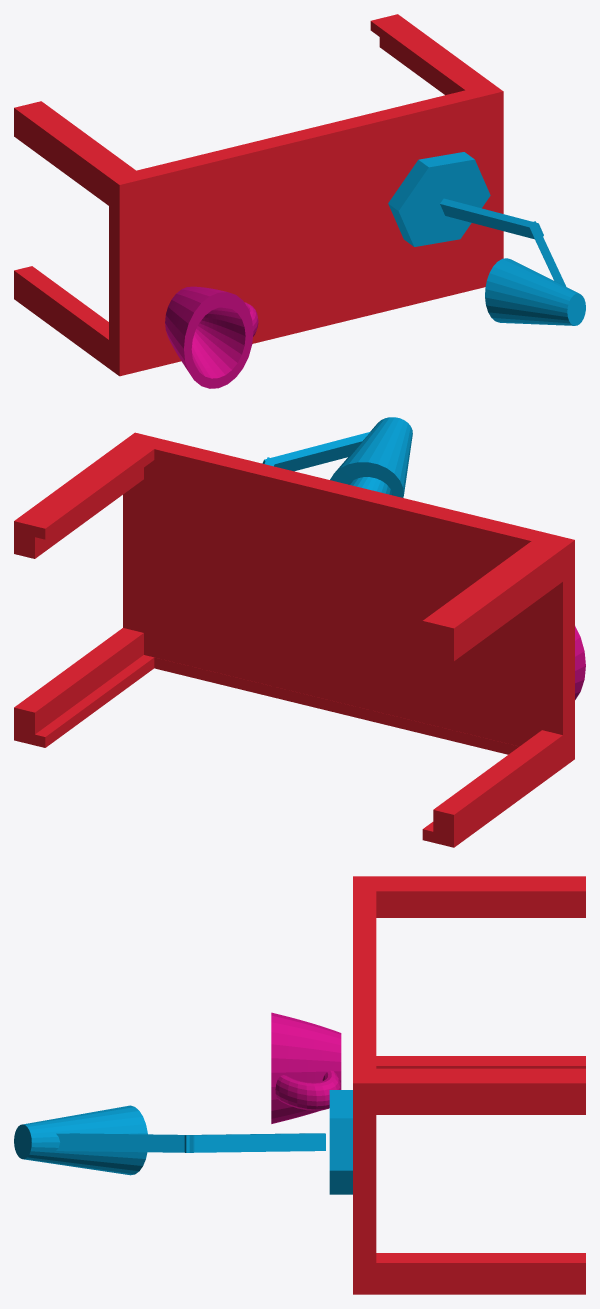
Rendered from tinker.obj.
3 views of the same model, one above another, from view 1: azimuth 30°, elevation 25°; view 2: azimuth 150°, elevation 25°; view 3: azimuth 270°, elevation 25° (orthographic). The views are drawn at different scales.
Visible parts, largest first — view 1: group_0_15277357, group_0_40919, group_0_14093196; view 2: group_0_15277357, group_0_40919, group_0_14093196; view 3: group_0_15277357, group_0_40919, group_0_14093196.
Boxes of the visible parts, <box> form: group_0_15277357: <box>14,14,503,376</box>; group_0_40919: <box>388,152,585,325</box>; group_0_14093196: <box>165,286,258,388</box>; group_0_15277357: <box>14,432,574,847</box>; group_0_40919: <box>262,417,412,497</box>; group_0_14093196: <box>575,626,585,699</box>; group_0_15277357: <box>353,876,585,1294</box>; group_0_40919: <box>14,1090,352,1194</box>; group_0_14093196: <box>271,1012,341,1123</box>.
Size of the model in its own units: 42 by 20 by 49.09.
